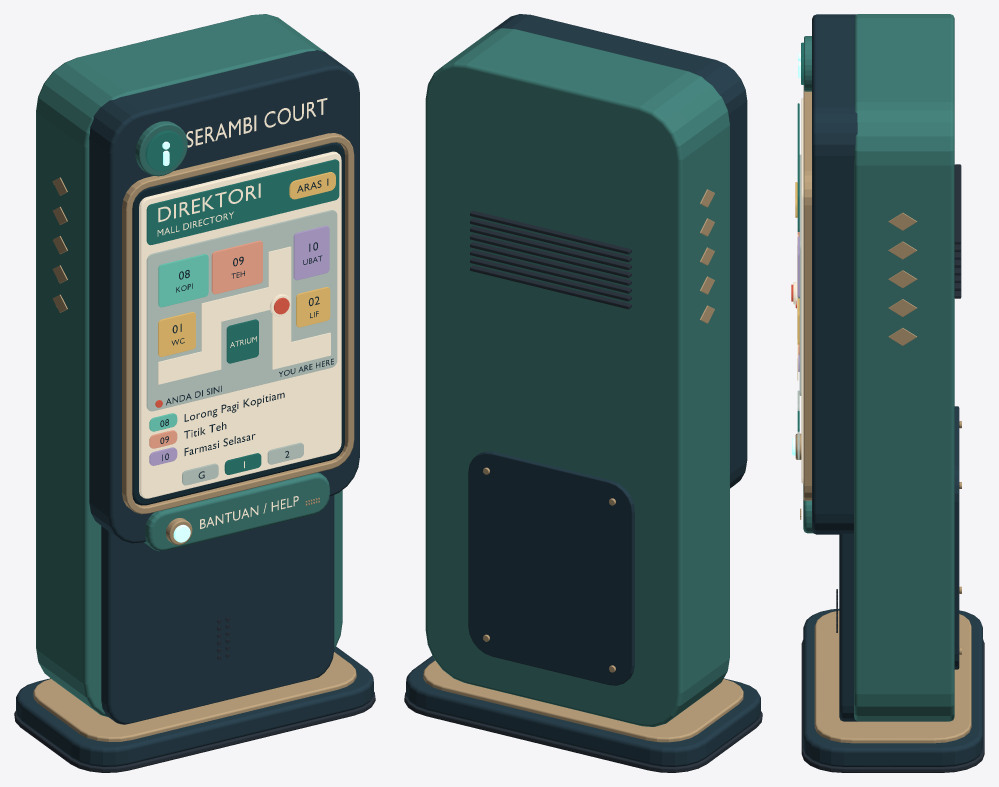
The picture shows the model from 3 angles, left to right: view 1: azimuth 30°, elevation 25°; view 2: azimuth 150°, elevation 25°; view 3: azimuth 270°, elevation 25°; orthographic projection.
Visible parts, largest first — view 1: Serambi Court Directory Kiosk - Kiosk Housing, Serambi Court Directory Kiosk - Directory Screen; view 2: Serambi Court Directory Kiosk - Kiosk Housing; view 3: Serambi Court Directory Kiosk - Kiosk Housing, Serambi Court Directory Kiosk - Directory Screen.
Part boxes in pixels (x1,y1,x2,y2): Serambi Court Directory Kiosk - Kiosk Housing: (14,14,375,772); Serambi Court Directory Kiosk - Directory Screen: (139,151,341,498); Serambi Court Directory Kiosk - Kiosk Housing: (404,14,762,772); Serambi Court Directory Kiosk - Kiosk Housing: (792,14,984,772); Serambi Court Directory Kiosk - Directory Screen: (791,97,803,483).
Size of the model in its own units: 0.955 by 1.98 by 0.542.
